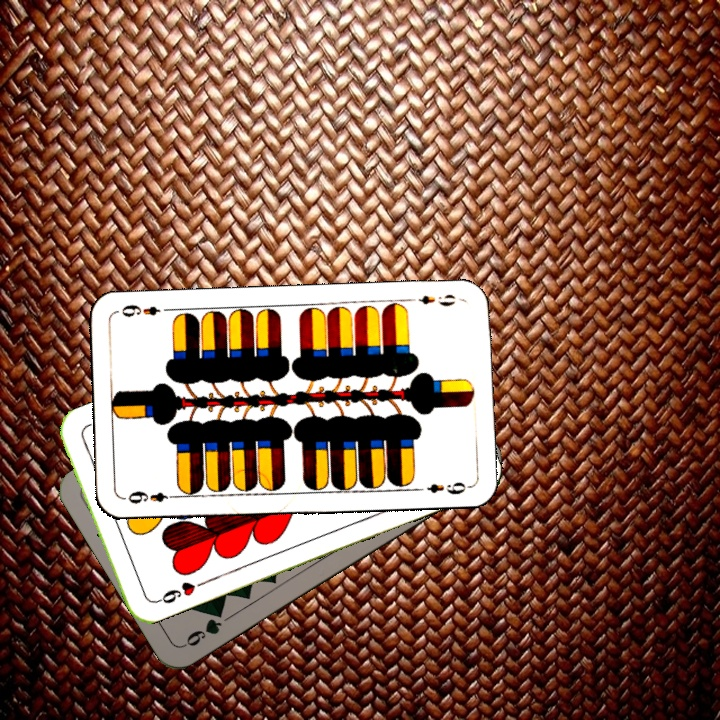E9: (124, 487, 180, 506), (414, 290, 458, 309)
G9: (179, 604, 226, 650)
H9: (151, 577, 198, 606)
